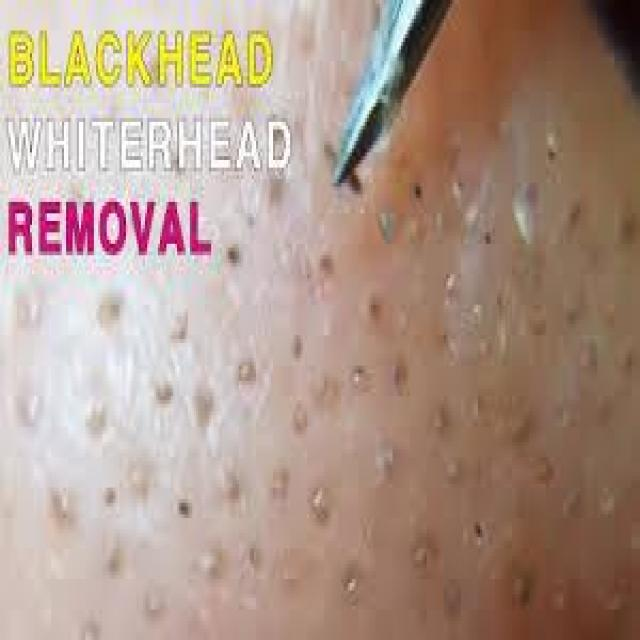dark spot: (271, 160, 623, 625), (45, 286, 160, 617), (166, 290, 278, 573)
